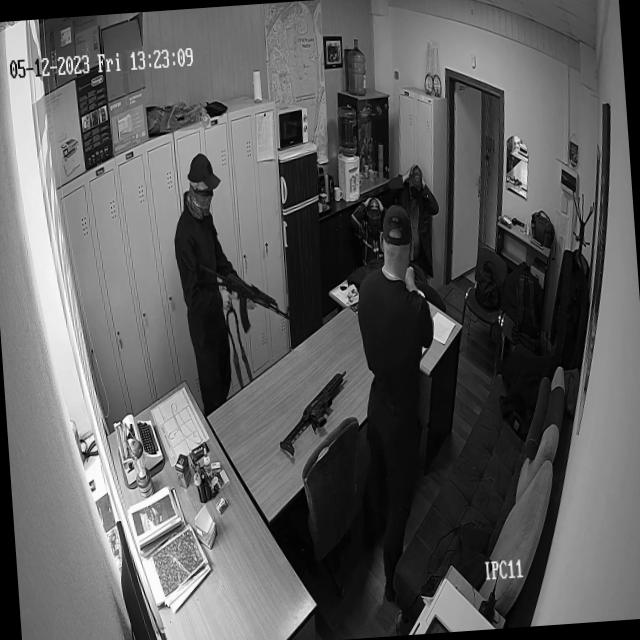gun: (216, 252, 293, 341), (282, 354, 354, 445)
person: (365, 209, 438, 561), (393, 161, 448, 222), (354, 192, 390, 247)
person with a gun: (162, 146, 242, 388)
